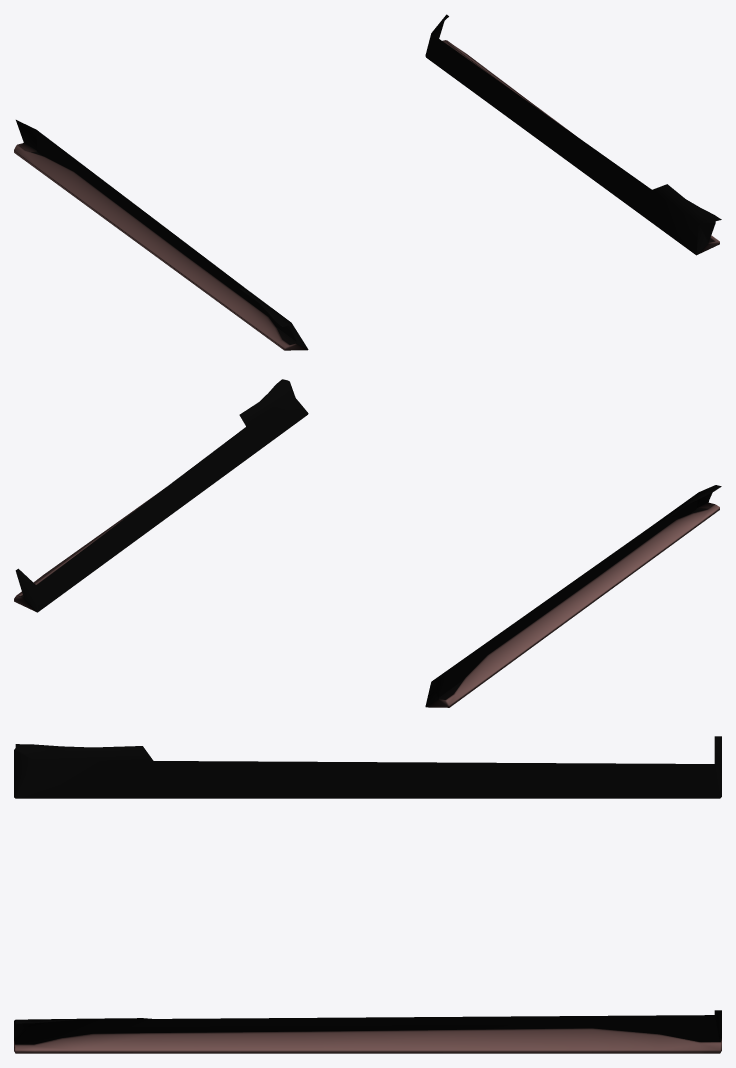
Rendered from Mustang16_Skirt_01_Trim.fbx.
3 renders of one model, top to bottom at view 1: azimuth 30°, elevation 25°; view 2: azimuth 150°, elevation 25°; view 3: azimuth 270°, elevation 25°, orthographic. The views are drawn at different scales.
Parts seen in each view (by area): view 1: Mustang16_Skirt_01_Trim; view 2: Mustang16_Skirt_01_Trim; view 3: Mustang16_Skirt_01_Trim.
Part boxes in pixels (left/top/right/bottom): Mustang16_Skirt_01_Trim: left=14, top=14, right=721, bottom=350; Mustang16_Skirt_01_Trim: left=14, top=379, right=721, bottom=707; Mustang16_Skirt_01_Trim: left=14, top=736, right=721, bottom=1053.
Size of the model in its own units: 178 by 14.51 by 191.
